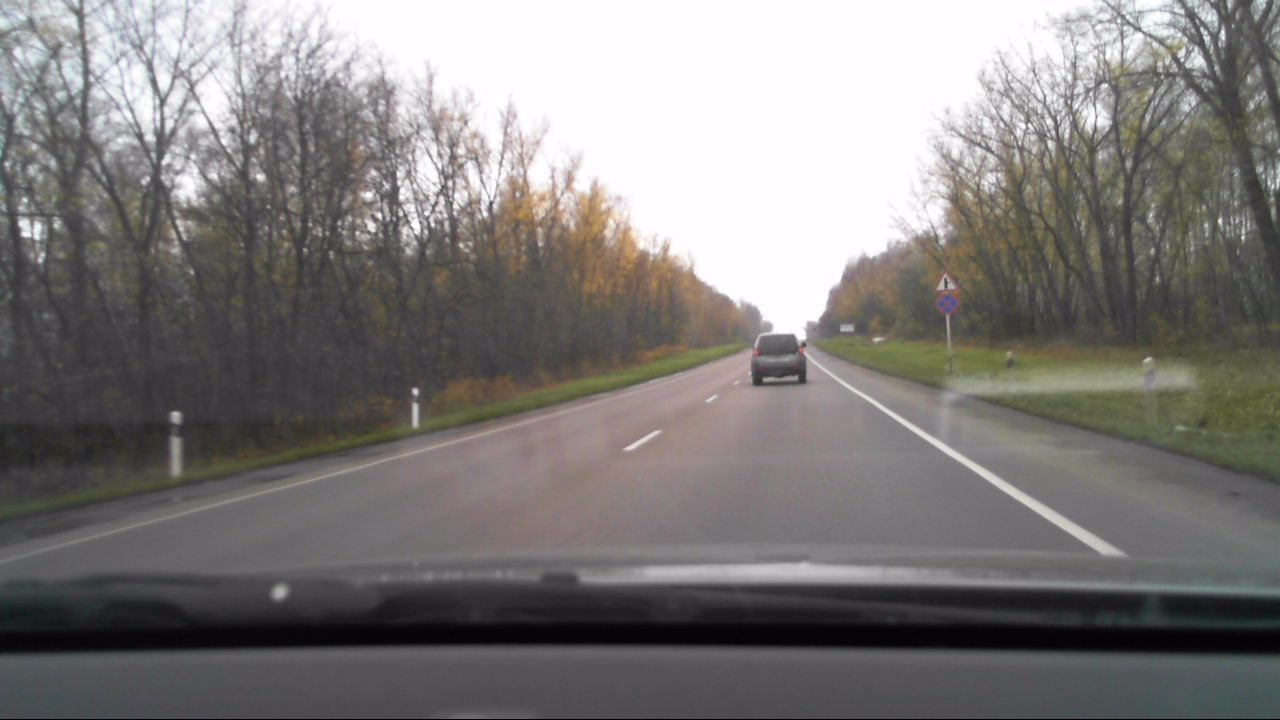No Parking: (934, 293, 960, 316)
